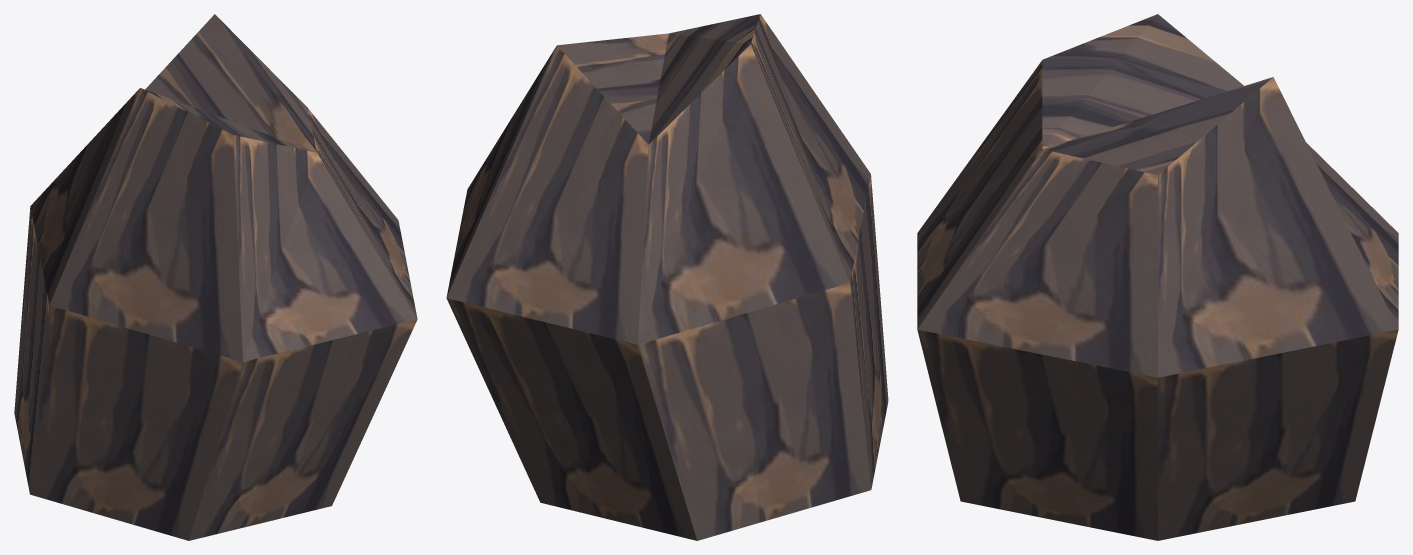
The model's file is rc_terrain_rock_medium_a.glb.
3 renders of one model, left to right at view 1: azimuth 30°, elevation 25°; view 2: azimuth 150°, elevation 25°; view 3: azimuth 270°, elevation 25°, orthographic. The views are drawn at different scales.
Visible parts, largest first — view 1: SM_RC_Terrain_Rock_Medium_A; view 2: SM_RC_Terrain_Rock_Medium_A; view 3: SM_RC_Terrain_Rock_Medium_A.
Boxes of the visible parts, bbox=[...] form: SM_RC_Terrain_Rock_Medium_A: bbox=[14, 14, 417, 540]; SM_RC_Terrain_Rock_Medium_A: bbox=[446, 14, 888, 540]; SM_RC_Terrain_Rock_Medium_A: bbox=[917, 14, 1398, 540].
Size of the model in its own units: 3 by 3 by 3.
1 material, 1 textured.
